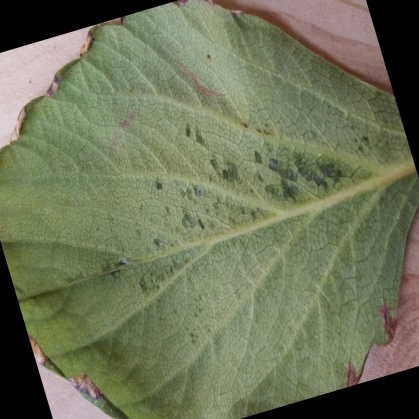Angular_LS: (69, 111, 391, 345)
